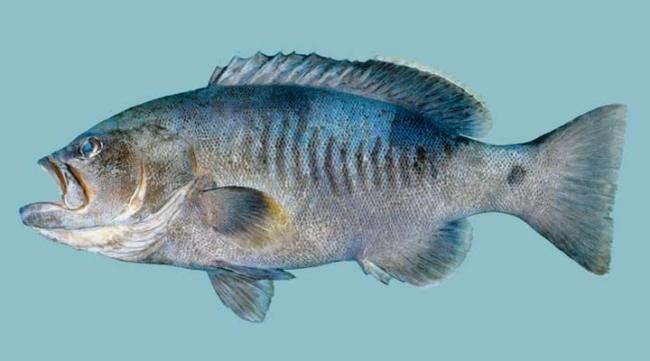fish: (19, 50, 628, 324)
